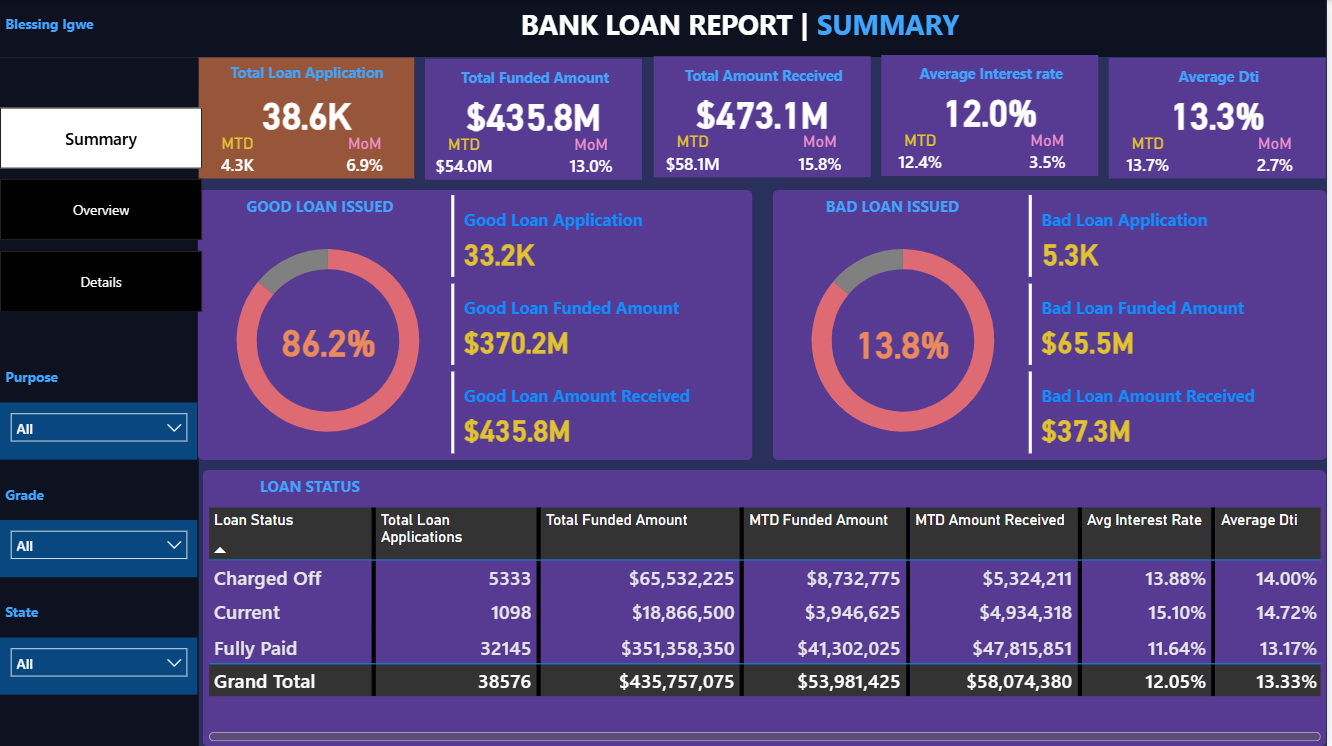

The page's visual inventory and layout, read from the dashboard file:
{"tool":"powerbi","page":{"name":"Summary","canvas":[1280,720],"ordinal":0},"visuals":[{"type":"shape","box":[0,0,1280.3,55],"z":0},{"type":"shape","box":[0,55.5,191.8,664.7],"z":1000},{"type":"textbox","box":[495.8,0,444,55.5],"z":2000},{"type":"shape","box":[850.2,53.1,209.4,117],"z":3000,"group":"g4"},{"type":"shape","box":[630.4,54.3,209.4,117],"z":3000,"group":"g3"},{"type":"group","id":"g1","title":"Group 1","box":[191.8,55.5,208.7,117],"z":3000},{"type":"shape","box":[191.8,55.5,208.2,117],"z":3000,"group":"g1"},{"type":"shape","box":[1070.1,55.5,209.4,117],"z":3000,"group":"g5"},{"type":"shape","box":[410.5,56.7,209.4,117],"z":3000,"group":"g2"},{"type":"group","id":"g2","title":"Group 1","box":[410.5,56.7,209.9,117],"z":4000},{"type":"card","fields":{"Values":["_Measures.Avg Interest Rate"]},"box":[850.2,85.7,209.9,42.2],"z":4000,"group":"g4"},{"type":"card","fields":{"Values":["_Measures.Total Amount Received"]},"box":[630.4,86.9,209.9,42.2],"z":4000,"group":"g3"},{"type":"card","fields":{"Values":["_Measures.Total Loan Applications"]},"box":[191.8,88.1,208.7,42.2],"z":4000,"group":"g1"},{"type":"card","fields":{"Values":["_Measures.Average Dti"]},"box":[1070.1,88.1,209.9,42.2],"z":4000,"group":"g5"},{"type":"card","fields":{"Values":["_Measures.Total Funded Amount"]},"box":[410.5,89.3,209.9,42.2],"z":4000,"group":"g2"},{"type":"textbox","box":[191.8,55.5,208.7,32.6],"z":5000,"group":"g1"},{"type":"textbox","box":[852.6,57.1,207.5,29],"z":5000,"group":"g4"},{"type":"textbox","box":[632.8,58.3,207.5,29],"z":5000,"group":"g3"},{"type":"textbox","box":[1072.5,59.5,207.5,29],"z":5000,"group":"g5"},{"type":"textbox","box":[412.9,60.7,207.5,29],"z":5000,"group":"g2"},{"type":"shape","box":[190.6,183.4,535.7,260.6],"z":5000},{"type":"card","title":"MTD","fields":{"Values":["_Measures.MTD Avg Int Rate"]},"box":[850.2,126.7,75.1,43.4],"z":6000,"group":"g4"},{"type":"card","title":"MTD","fields":{"Values":["_Measures.MTD Amount Received"]},"box":[630.4,127.9,75.1,43.4],"z":6000,"group":"g3"},{"type":"card","title":"MTD","fields":{"Values":["_Measures.MTD Loan Applications"]},"box":[191.8,129.1,74.7,43.4],"z":6000,"group":"g1"},{"type":"card","title":"MTD","fields":{"Values":["_Measures.MTD Dti"]},"box":[1070.1,129.1,75.1,43.4],"z":6000,"group":"g5"},{"type":"card","title":"MTD","fields":{"Values":["_Measures.MTD Funded Amount"]},"box":[410.5,130.3,75.1,43.4],"z":6000,"group":"g2"},{"type":"card","fields":{"Values":["_Measures.Good Loan %"]},"box":[247.3,307.6,139.9,42.2],"z":6000},{"type":"card","title":"MoM","fields":{"Values":["_Measures.Mom Avg Int"]},"box":[977.2,126.7,67.4,43.4],"z":7000,"group":"g4"},{"type":"card","title":"MoM","fields":{"Values":["_Measures.Mom Amount Received"]},"box":[757.4,127.9,67.4,43.4],"z":7000,"group":"g3"},{"type":"card","title":"MoM","fields":{"Values":["_Measures.Mom Loan Applications"]},"box":[318.1,129.1,67,43.4],"z":7000,"group":"g1"},{"type":"card","title":"MoM","fields":{"Values":["_Measures.Mom Dti"]},"box":[1197.1,129.1,67.4,43.4],"z":7000,"group":"g5"},{"type":"card","title":"MoM","fields":{"Values":["_Measures.Mom Amount Funded"]},"box":[537.5,130.3,67.4,43.4],"z":7000,"group":"g2"},{"type":"textbox","box":[205.1,183.4,207.5,38.6],"z":7000},{"type":"group","id":"g3","title":"Group 1","box":[630.4,54.3,209.9,117],"z":8000},{"type":"donutChart","fields":{"Category":["financial_loan.Good v Bad Loan"],"Y":["_Measures.Total Loan Applications"]},"box":[191.8,213.5,249.7,230.4],"z":9000},{"type":"group","id":"g4","title":"Group 1","box":[850.2,53.1,209.9,117],"z":10000},{"type":"group","id":"g5","title":"Group 1","box":[1070.1,55.5,209.9,117],"z":11000},{"type":"shape","box":[745.6,183.4,535,260.6],"z":12000},{"type":"cardVisual","fields":{"Data":["_Measures.Good Loan Application","_Measures.Good Loan Funded Amount","_Measures.Good Loan Amount Received"]},"box":[430.7,183.4,304,260.6],"z":13000},{"type":"cardVisual","fields":{"Data":["_Measures.Bad Loan Application","_Measures.Bad Loan Funded Amount","_Measures.Bad Loan Amount Received"]},"box":[988.1,183.4,292,260.6],"z":14000},{"type":"donutChart","fields":{"Category":["financial_loan.Good v Bad Loan"],"Y":["_Measures.Total Loan Applications"]},"box":[746.8,213.5,249.7,230.4],"z":15000},{"type":"textbox","box":[757.6,183.4,207.5,38.6],"z":16000},{"type":"card","fields":{"Values":["_Measures.Bad Loan %"]},"box":[801.1,308.8,139.9,42.2],"z":17000},{"type":"shape","box":[195.4,453.6,1084.6,266.6],"z":18000},{"type":"tableEx","fields":{"Values":["financial_loan.loan_status","_Measures.Total Loan Applications","_Measures.Total Funded Amount","_Measures.MTD Funded Amount","_Measures.MTD Amount Received","_Measures.Avg Interest Rate","_Measures.Average Dti"]},"box":[195.4,485,1084.6,235.3],"z":19000},{"type":"textbox","box":[195.4,453.6,207.5,38.6],"z":20000},{"type":"slicer","fields":{"Values":["financial_loan.address_state"]},"box":[0,615.3,190.6,55.5],"z":21000},{"type":"textbox","box":[0,576.7,65.1,38.6],"z":22000},{"type":"textbox","box":[0,463.3,65.1,38.6],"z":23000},{"type":"textbox","box":[0,349.9,139.9,38.6],"z":24000},{"type":"slicer","fields":{"Values":["financial_loan.purpose"]},"box":[0,388.5,190.6,55.5],"z":25000},{"type":"slicer","fields":{"Values":["financial_loan.grade"]},"box":[0,501.9,190.6,55.5],"z":26000},{"type":"textbox","box":[0,8.4,119.4,38.6],"z":27000},{"type":"pageNavigator","box":[0,103.8,195.4,197.9],"z":28000}]}

Visuals, with their boxes in screenshot pixels (x1, y1, x2, y2), scaled from the page's 1280x720 canvas onto the 1332x746 screenshot:
shape: rect(0, 0, 1331, 57)
shape: rect(0, 58, 200, 745)
textbox: rect(516, 0, 978, 58)
shape: rect(885, 55, 1103, 176)
shape: rect(656, 56, 874, 177)
"Group 1" group: rect(200, 58, 417, 179)
shape: rect(200, 58, 416, 179)
shape: rect(1114, 58, 1331, 179)
shape: rect(427, 59, 645, 180)
"Group 1" group: rect(427, 59, 646, 180)
card - _Measures.Avg Interest Rate: rect(885, 89, 1103, 133)
card - _Measures.Total Amount Received: rect(656, 90, 874, 134)
card - _Measures.Total Loan Applications: rect(200, 91, 417, 135)
card - _Measures.Average Dti: rect(1114, 91, 1331, 135)
card - _Measures.Total Funded Amount: rect(427, 93, 646, 136)
textbox: rect(200, 58, 417, 91)
textbox: rect(887, 59, 1103, 89)
textbox: rect(659, 60, 874, 90)
textbox: rect(1116, 62, 1331, 92)
textbox: rect(430, 63, 646, 93)
shape: rect(198, 190, 756, 460)
"MTD" card: rect(885, 131, 963, 176)
"MTD" card: rect(656, 133, 734, 177)
"MTD" card: rect(200, 134, 277, 179)
"MTD" card: rect(1114, 134, 1192, 179)
"MTD" card: rect(427, 135, 505, 180)
card - _Measures.Good Loan %: rect(257, 319, 403, 362)
"MoM" card: rect(1017, 131, 1087, 176)
"MoM" card: rect(788, 133, 858, 177)
"MoM" card: rect(331, 134, 401, 179)
"MoM" card: rect(1246, 134, 1316, 179)
"MoM" card: rect(559, 135, 629, 180)
textbox: rect(213, 190, 429, 230)
"Group 1" group: rect(656, 56, 874, 177)
donutChart - financial_loan.Good v Bad Loan x _Measures.Total Loan Applications: rect(200, 221, 459, 460)
"Group 1" group: rect(885, 55, 1103, 176)
"Group 1" group: rect(1114, 58, 1331, 179)
shape: rect(776, 190, 1331, 460)
cardVisual - _Measures.Good Loan Application x _Measures.Good Loan Funded Amount: rect(448, 190, 765, 460)
cardVisual - _Measures.Bad Loan Application x _Measures.Bad Loan Funded Amount: rect(1028, 190, 1331, 460)
donutChart - financial_loan.Good v Bad Loan x _Measures.Total Loan Applications: rect(777, 221, 1037, 460)
textbox: rect(788, 190, 1004, 230)
card - _Measures.Bad Loan %: rect(834, 320, 979, 364)
shape: rect(203, 470, 1331, 745)
tableEx - financial_loan.loan_status x _Measures.Total Loan Applications: rect(203, 503, 1331, 745)
textbox: rect(203, 470, 419, 510)
slicer - financial_loan.address_state: rect(0, 638, 198, 695)
textbox: rect(0, 598, 68, 638)
textbox: rect(0, 480, 68, 520)
textbox: rect(0, 363, 146, 403)
slicer - financial_loan.purpose: rect(0, 403, 198, 460)
slicer - financial_loan.grade: rect(0, 520, 198, 578)
textbox: rect(0, 9, 124, 49)
pageNavigator: rect(0, 108, 203, 313)
